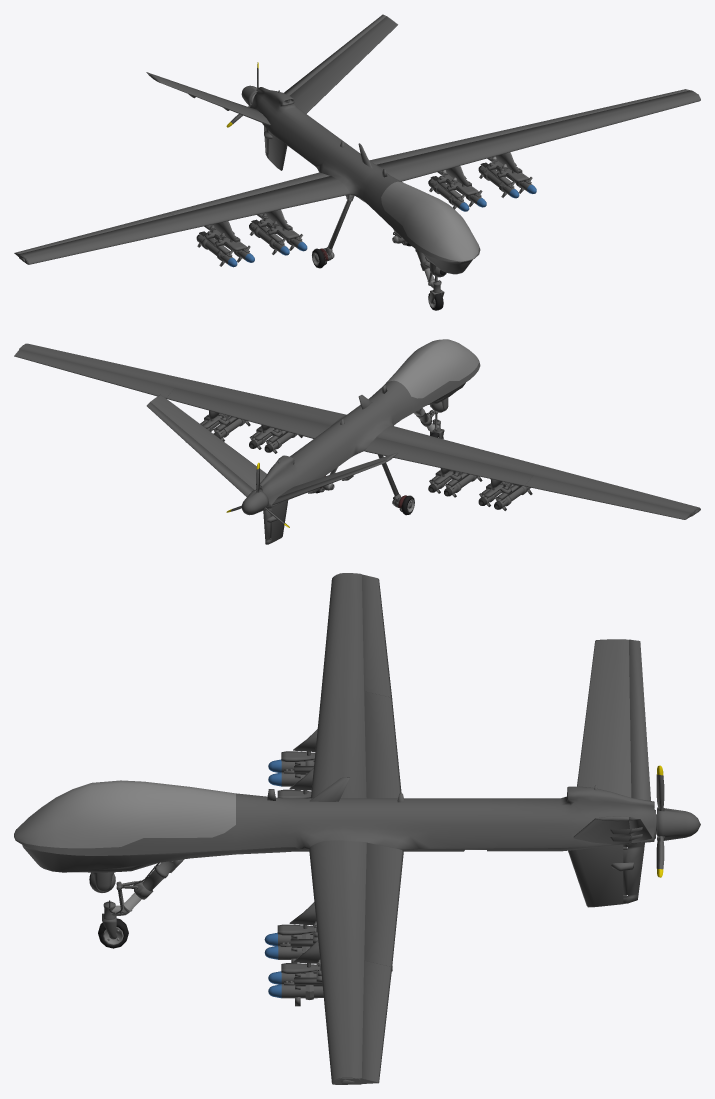
The model's file is 简易无人机.glb.
The picture shows the model from 3 angles, top to bottom: view 1: azimuth 30°, elevation 25°; view 2: azimuth 150°, elevation 25°; view 3: azimuth 270°, elevation 25°; orthographic projection. The views are drawn at different scales.
Visible parts, largest first — view 1: 0_tete.001_00_gris_0, 0_tete.001_0_grey_white_0, 0_tete.001_00_bleu_reflet_0; view 2: 0_tete.001_00_gris_0, 0_tete.001_0_grey_white_0, 0_tete.001_00_noir_0; view 3: 0_tete.001_00_gris_0, 0_tete.001_0_grey_white_0, 0_tete.001_00_bleu_reflet_0.
Part boxes in pixels (bbox=[...]): 0_tete.001_00_gris_0: bbox=[14, 14, 700, 303]; 0_tete.001_0_grey_white_0: bbox=[250, 93, 515, 307]; 0_tete.001_00_bleu_reflet_0: bbox=[228, 184, 536, 267]; 0_tete.001_00_gris_0: bbox=[14, 343, 700, 544]; 0_tete.001_0_grey_white_0: bbox=[219, 339, 478, 512]; 0_tete.001_00_noir_0: bbox=[213, 411, 504, 510]; 0_tete.001_00_gris_0: bbox=[14, 573, 700, 1084]; 0_tete.001_0_grey_white_0: bbox=[14, 780, 664, 970]; 0_tete.001_00_bleu_reflet_0: bbox=[264, 759, 281, 998].
Size of the model in its own units: 883 by 178 by 505.
